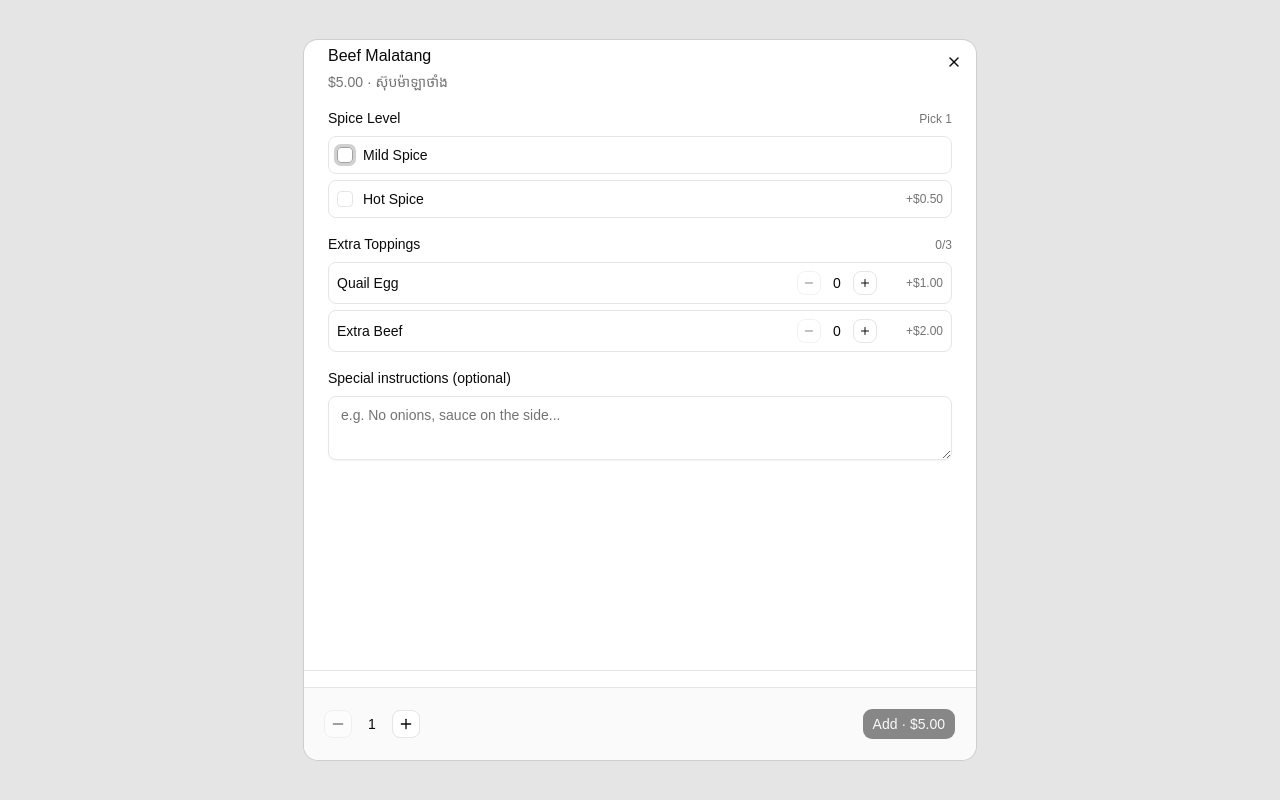
Test: <GuestItemDialog /> › allows selecting multi-choice toppings and calculates updated unit price
Note: Select required Spice Level
Click the text "Mild Spice".
click(395, 155)  # box [363,147,428,163]
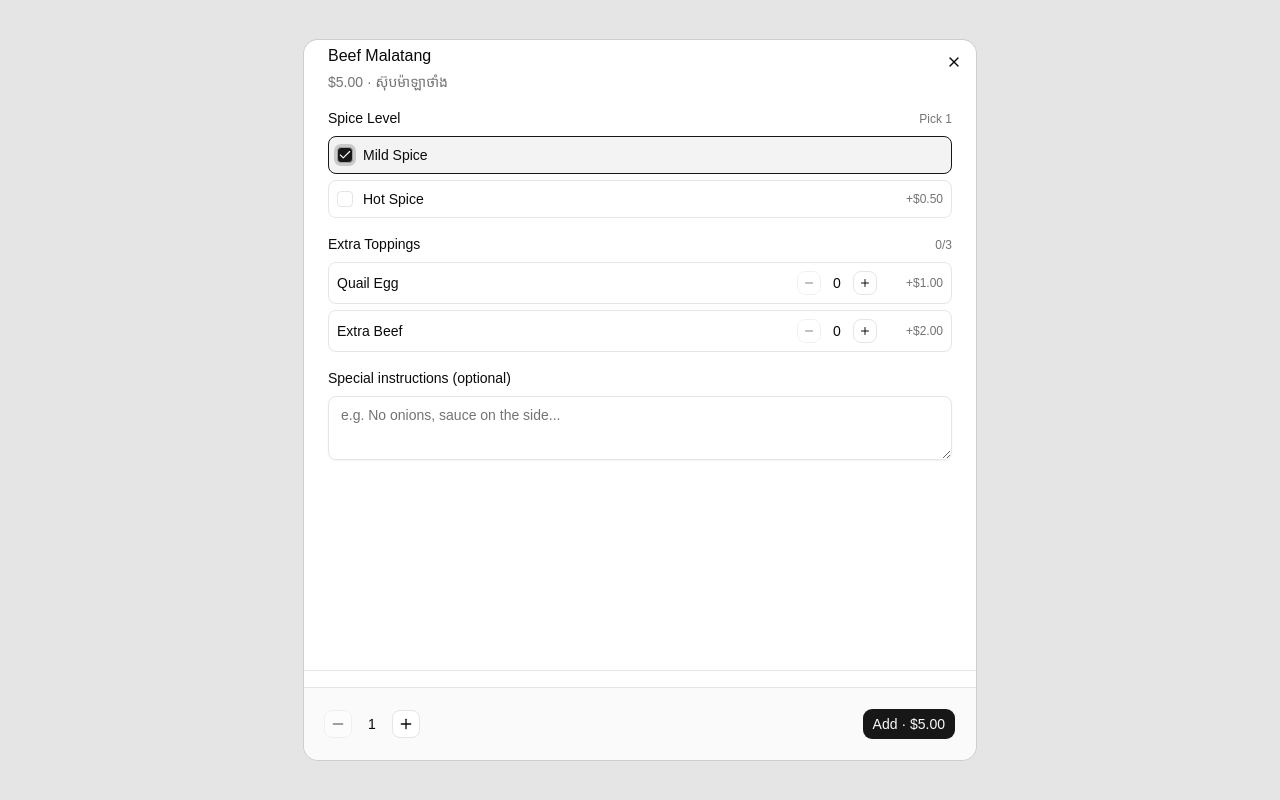
Note: Add Quail Egg (+$1.00)
Click the 3rd button named "more quail egg".
click(865, 283)  # box [853,271,877,295]
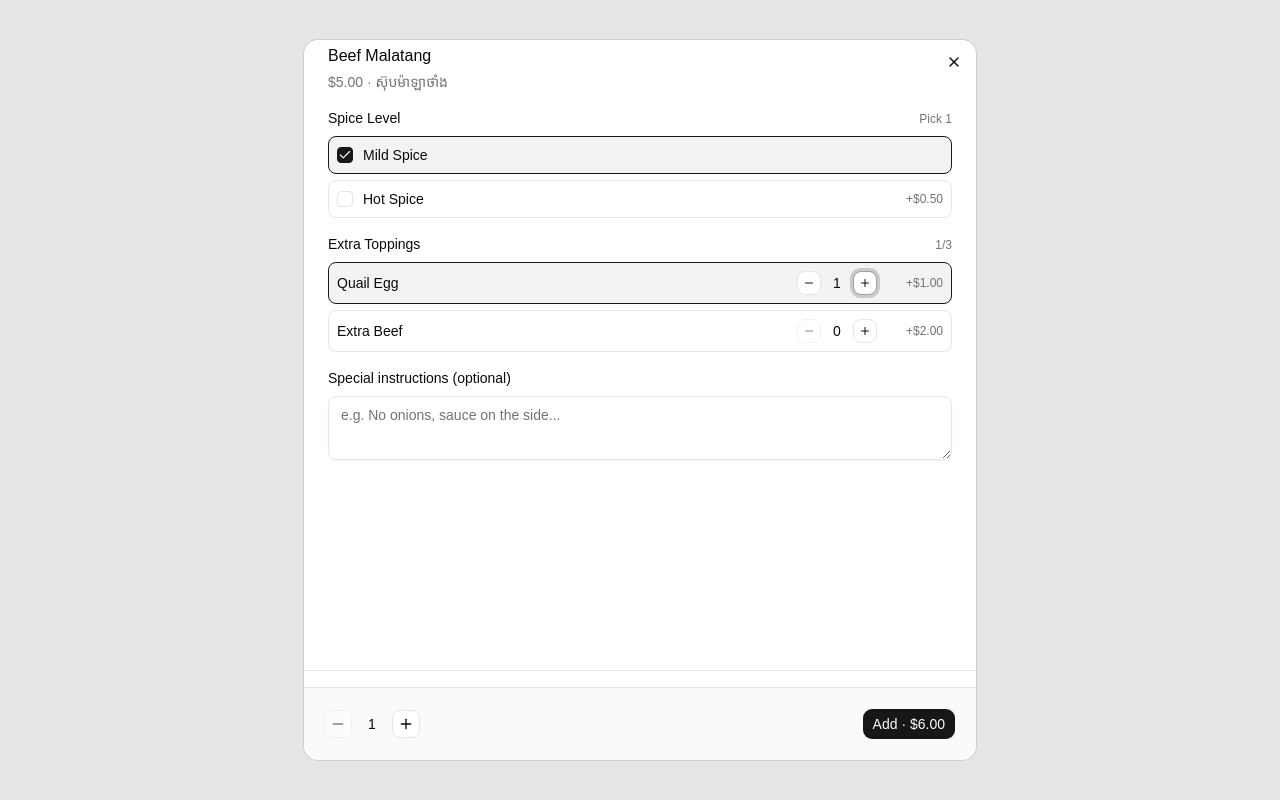
Expected: the button "Add · $6.00" is shown, [862,708,956,740]
Note: Add another Quail Egg (+$1.00)
Click the 3rd button named "more quail egg".
click(865, 283)  # box [853,271,877,295]
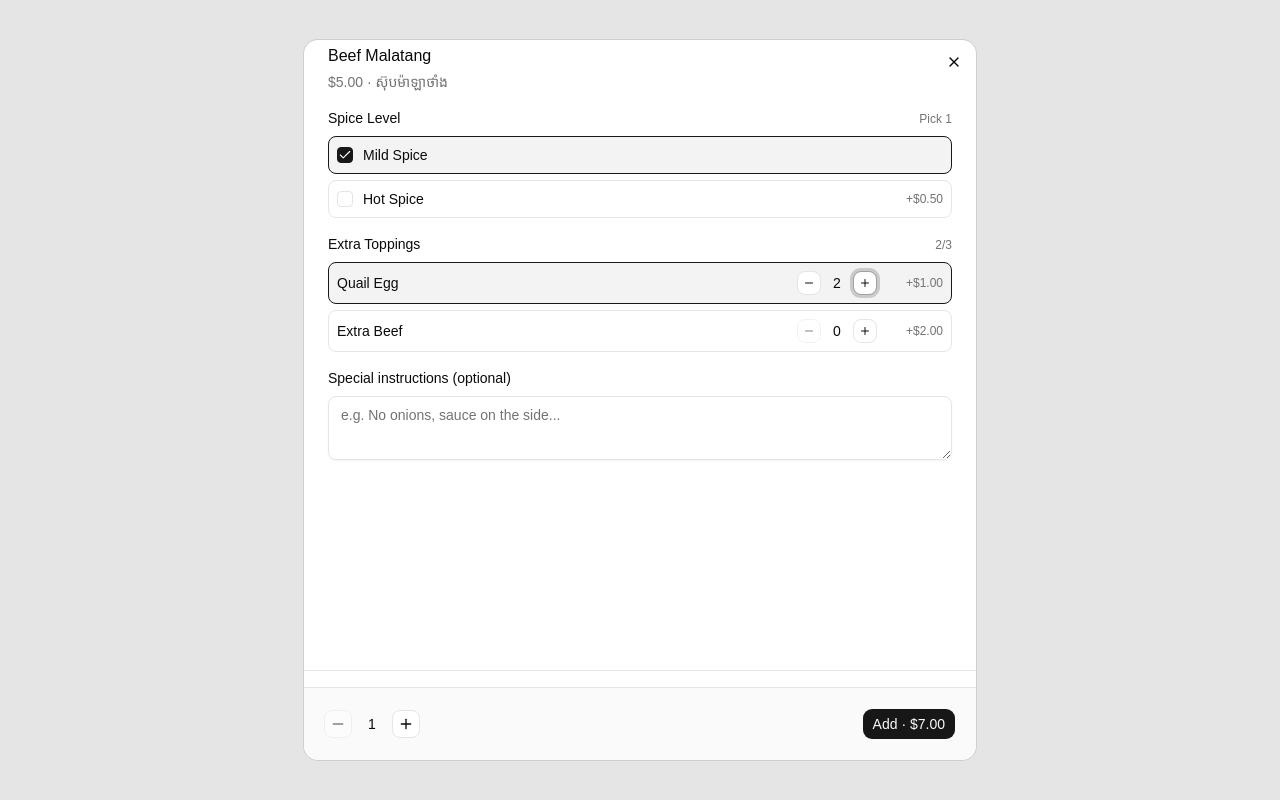
Expected: the button "Add · $7.00" is shown, [862,708,956,740]
Note: Decrease Quail Egg by 1
Click the 2nd button named "fewer quail egg".
click(809, 283)  # box [797,271,821,295]
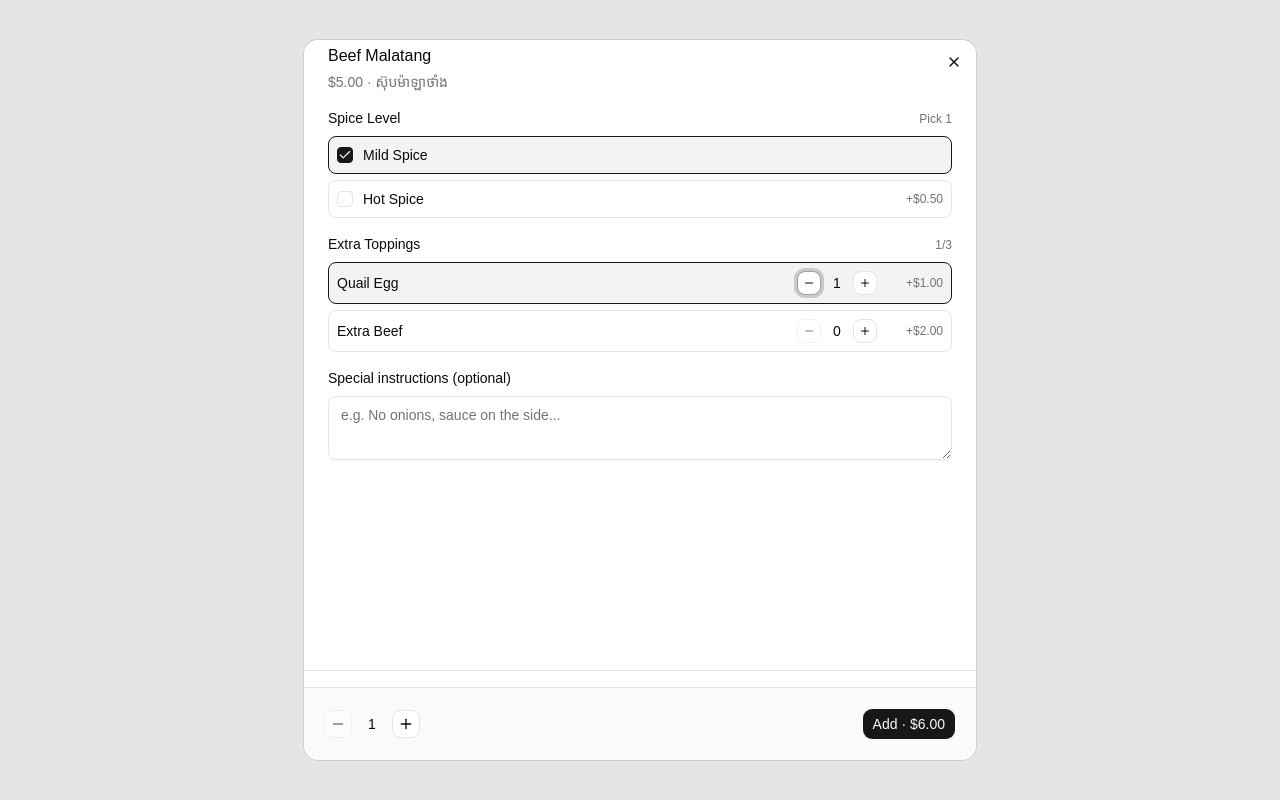
Expected: the button "Add · $6.00" is shown, [862,708,956,740]
